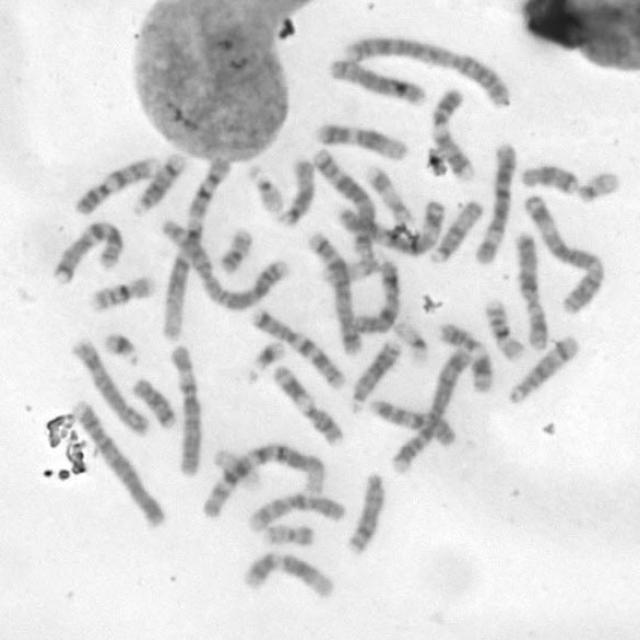A1: (160, 152, 232, 340), (198, 442, 328, 520)
A2: (156, 215, 291, 312), (342, 36, 514, 111)
A3: (523, 191, 608, 316), (338, 198, 444, 256)
B4: (68, 398, 169, 532), (390, 345, 474, 480)
B5: (312, 147, 379, 254), (308, 231, 364, 357)
C10: (367, 396, 460, 451), (244, 492, 346, 535)
C11: (270, 365, 346, 447), (437, 319, 494, 394)
C12: (241, 547, 333, 603), (314, 122, 410, 162)
C6: (470, 140, 518, 266), (167, 340, 203, 482)
C7: (250, 309, 347, 391), (51, 217, 127, 286)
C8: (71, 334, 155, 437), (325, 56, 427, 108)
C9: (74, 154, 163, 216), (428, 88, 480, 184)
D13: (347, 339, 403, 413), (343, 473, 387, 558)
D14: (507, 333, 578, 405), (130, 150, 189, 219)
D15: (425, 197, 484, 266), (277, 158, 318, 228)
E16: (485, 299, 529, 361), (88, 274, 154, 313)
E17: (367, 165, 413, 222), (321, 250, 386, 290)
E18: (129, 377, 177, 430), (519, 162, 579, 198)
F19: (211, 448, 265, 496), (392, 318, 429, 368)
F20: (218, 225, 254, 274), (261, 519, 315, 549)
G21: (246, 340, 284, 382), (103, 330, 142, 369)
G22: (245, 163, 284, 216), (576, 170, 624, 204)
X: (514, 228, 552, 352), (352, 258, 400, 336)
